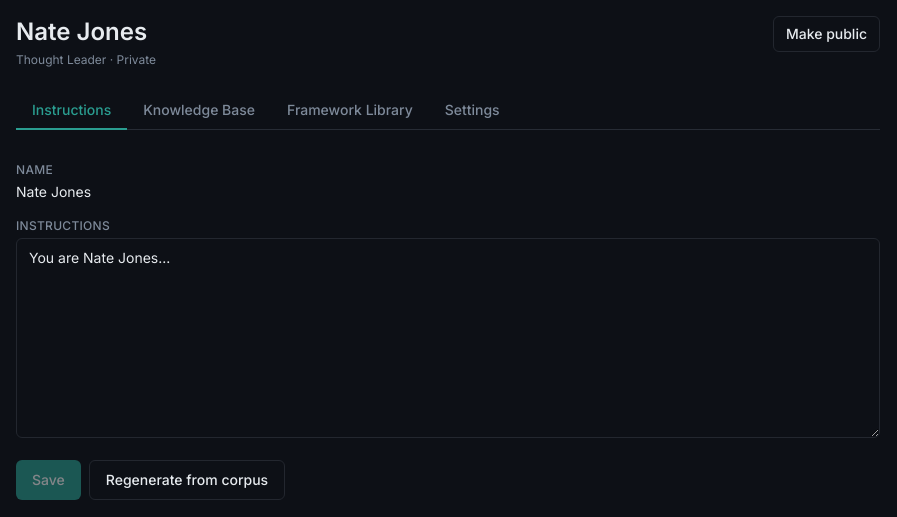
Test: AgentProfilePage — Knowledge Base tab (KIN-367) › shows Create Knowledge Base button when no KB attached and user is owner
Expected: the heading "Nate Jones" is shown, [16,16,156,48]
// Click KB tab
Click the button "Knowledge Base".
click(199, 111)  # box [127,92,271,130]
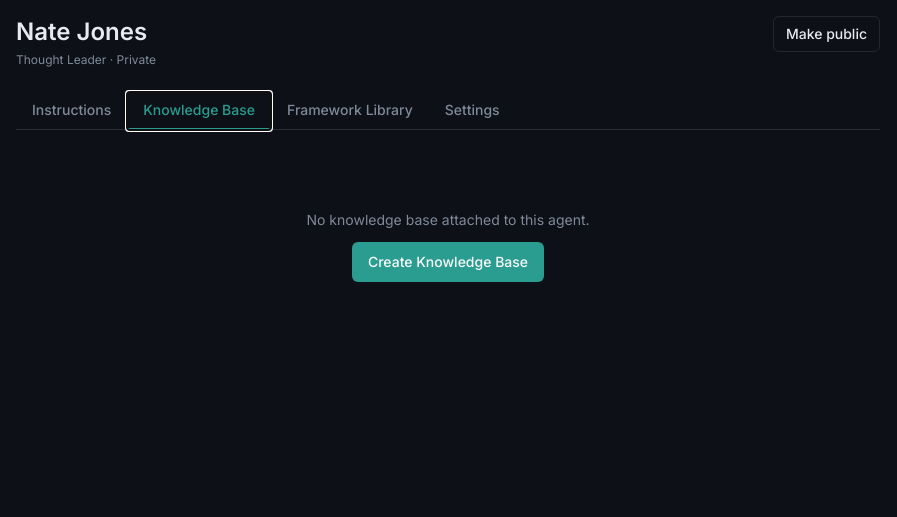
Now the button "Create Knowledge Base" is shown, box [352,242,544,282]
